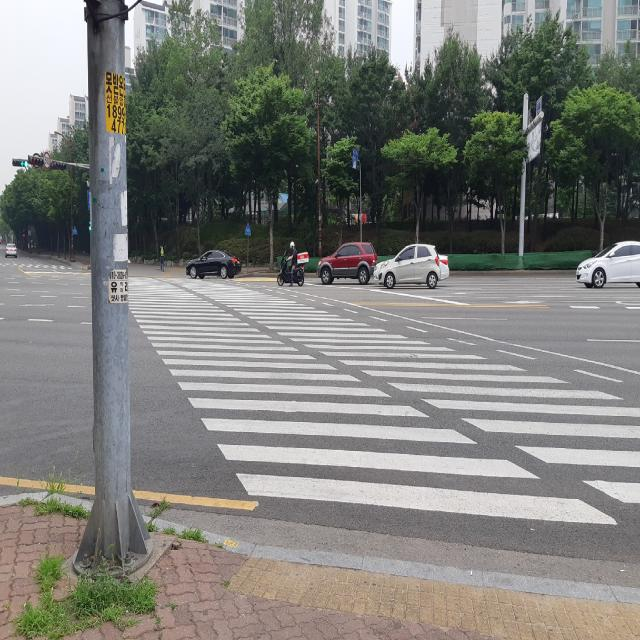횡단보도: (128, 275, 640, 526), (0, 258, 76, 274)
